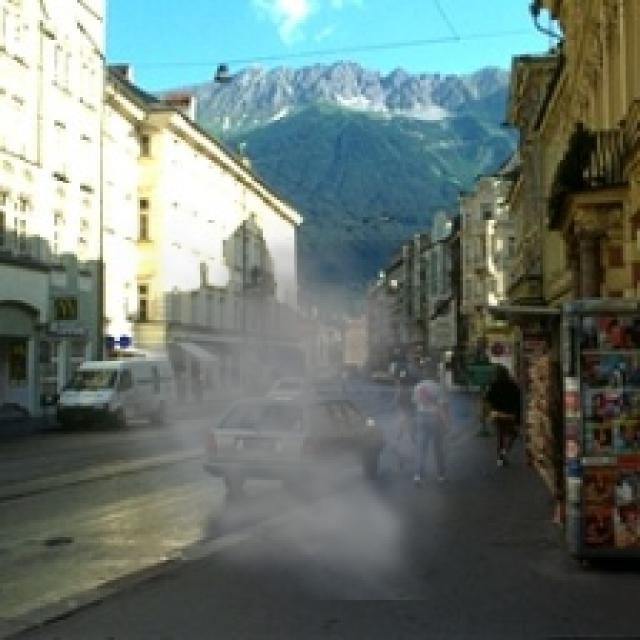smoke: (86, 194, 506, 600)
